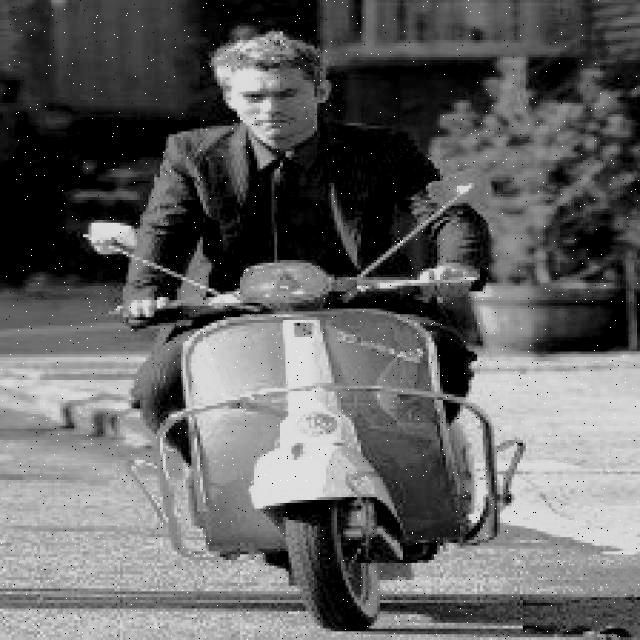Bike: (150, 271, 510, 635)
